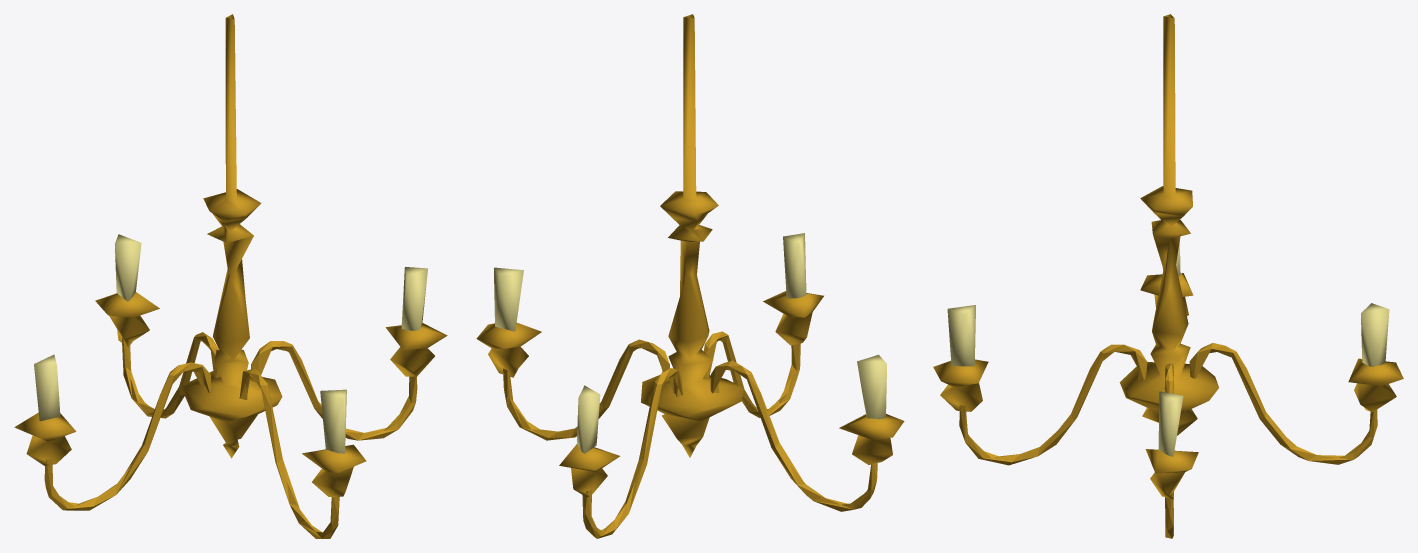
File: chandelier_4.fbx
The picture shows the model from 3 angles, left to right: view 1: azimuth 30°, elevation 25°; view 2: azimuth 150°, elevation 25°; view 3: azimuth 270°, elevation 25°; orthographic projection. The views are drawn at different scales.
Visible parts, largest first — view 1: Circle; view 2: Circle; view 3: Circle.
Part boxes in pixels (x1=…): Circle: x1=14, y1=14, x2=447, y2=538; Circle: x1=476, y1=14, x2=904, y2=538; Circle: x1=933, y1=14, x2=1403, y2=538.
Bounding box in the file's own units: 436 × 455 × 433.
